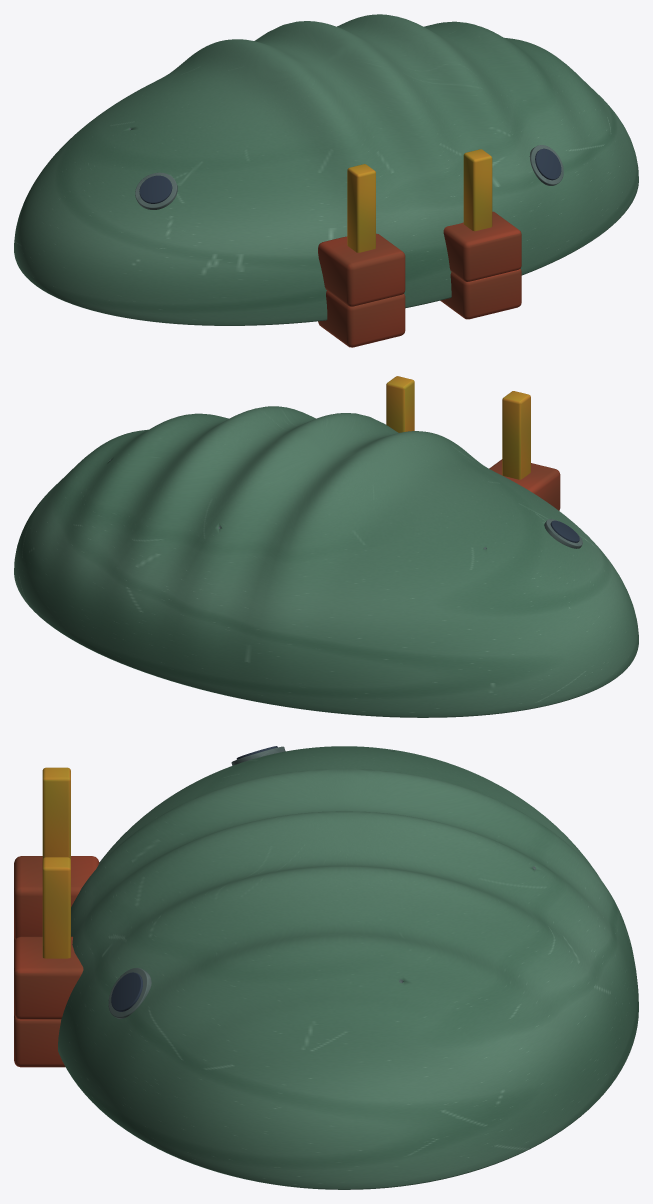
3 renders of one model, top to bottom at view 1: azimuth 30°, elevation 25°; view 2: azimuth 150°, elevation 25°; view 3: azimuth 270°, elevation 25°, orthographic. The views are drawn at different scales.
Parts seen in each view (by area): view 1: Shell continuous ribbed green carapace, Shell copper block 0 1, Shell copper block 1 1, Shell copper block 0 0, Shell copper block 1 0, Shell brass pin 0, Shell brass pin 1, Shell dark point inset 0, Shell dark point inset 1, Shell dark point rim 0; view 2: Shell continuous ribbed green carapace, Shell brass pin 0, Shell brass pin 1, Shell copper block 0 1; view 3: Shell continuous ribbed green carapace, Shell copper block 1 1, Shell copper block 0 1, Shell brass pin 1, Shell brass pin 0, Shell copper block 1 0, Shell dark point inset 1, Shell dark point rim 1.
Part boxes in pixels (bbox=[...]): Shell continuous ribbed green carapace: bbox=[14, 14, 638, 325]; Shell copper block 0 1: bbox=[318, 233, 405, 306]; Shell copper block 1 1: bbox=[443, 211, 521, 281]; Shell copper block 0 0: bbox=[318, 290, 405, 347]; Shell copper block 1 0: bbox=[440, 269, 521, 319]; Shell brass pin 0: bbox=[347, 164, 375, 252]; Shell brass pin 1: bbox=[463, 149, 492, 231]; Shell dark point inset 0: bbox=[139, 175, 172, 203]; Shell dark point inset 1: bbox=[535, 148, 561, 180]; Shell dark point rim 0: bbox=[135, 172, 177, 209]; Shell continuous ribbed green carapace: bbox=[14, 406, 638, 717]; Shell brass pin 0: bbox=[502, 391, 530, 479]; Shell brass pin 1: bbox=[386, 376, 414, 432]; Shell copper block 0 1: bbox=[489, 459, 560, 510]; Shell continuous ribbed green carapace: bbox=[58, 746, 638, 1189]; Shell copper block 1 1: bbox=[14, 936, 83, 1019]; Shell copper block 0 1: bbox=[14, 856, 99, 939]; Shell brass pin 1: bbox=[42, 857, 70, 958]; Shell brass pin 0: bbox=[42, 767, 70, 859]; Shell copper block 1 0: bbox=[14, 1014, 65, 1067]; Shell dark point inset 1: bbox=[111, 972, 142, 1011]; Shell dark point rim 1: bbox=[108, 967, 151, 1018].
Bounding box in the file's own units: 1.8 × 0.5376 × 1.32.
5 materials, 4 textured.
